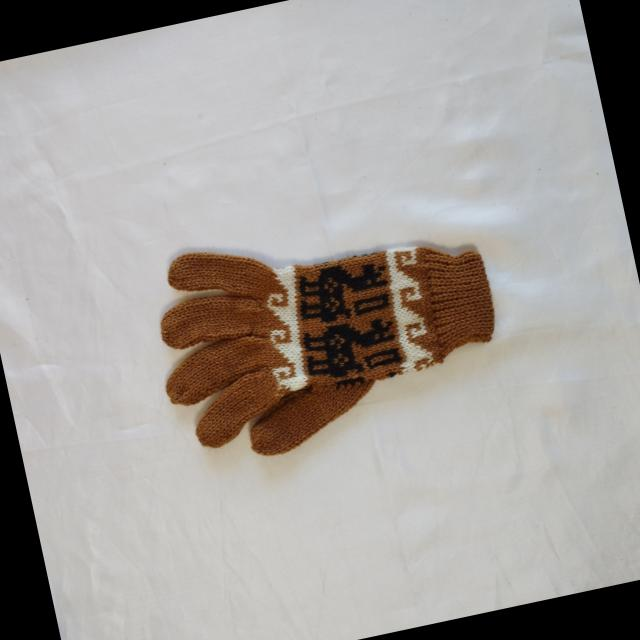Guante: (138, 190, 516, 476)
